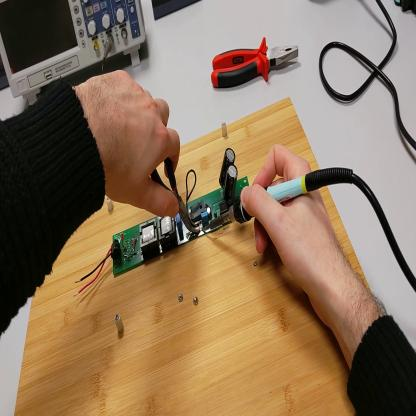hand: (70, 68, 183, 223), (244, 148, 341, 310)
high voltage board: (75, 149, 250, 297)
oscilloscope: (2, 2, 147, 107)
pliers: (210, 36, 302, 96), (152, 160, 201, 239)
welder probe tip: (203, 168, 354, 231)
working area: (14, 98, 373, 415)
